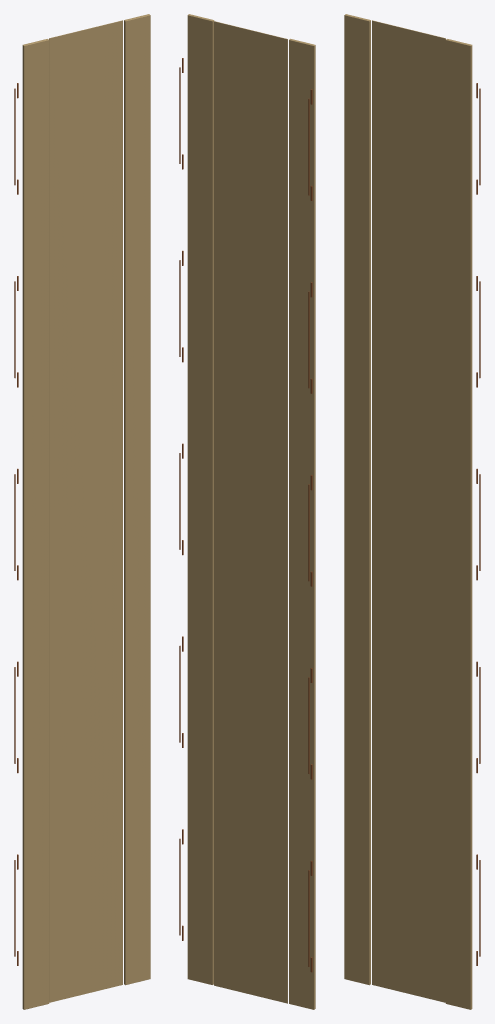
The model's file is field_road_segment.glb.
The picture shows the model from 3 angles, left to right: view 1: azimuth 30°, elevation 25°; view 2: azimuth 150°, elevation 25°; view 3: azimuth 330°, elevation 25°; orthographic projection.
Visible parts, largest first — view 1: road_bed, road_ditch, road_ditch.001; view 2: road_bed, road_ditch.001, road_ditch; view 3: road_bed, road_ditch.001, road_ditch.
Boxes of the visible parts, x1,y1,x2,y2 form: road_bed: (49, 20, 122, 1002); road_ditch: (22, 39, 49, 1009); road_ditch.001: (124, 14, 150, 985); road_bed: (214, 21, 287, 1003); road_ditch.001: (187, 14, 214, 984); road_ditch: (289, 38, 315, 1009); road_bed: (372, 20, 445, 1002); road_ditch.001: (445, 39, 472, 1009); road_ditch: (344, 14, 370, 985).
Size of the model in its own units: 11.34 by 80 by 1.22.
